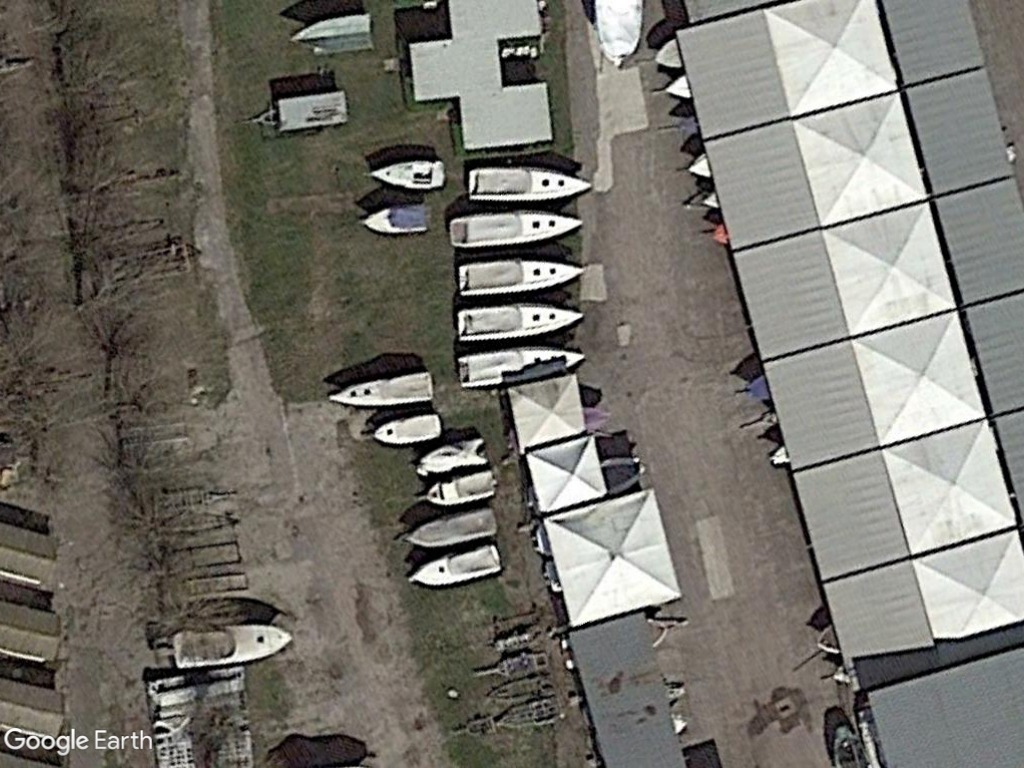boat: (167, 616, 297, 674), (449, 299, 587, 344), (444, 208, 586, 251), (451, 257, 587, 299), (452, 349, 589, 390), (463, 164, 596, 206), (405, 541, 502, 590), (398, 507, 502, 552), (325, 367, 434, 409), (360, 153, 449, 194), (411, 433, 486, 478), (421, 465, 496, 509), (354, 198, 432, 236), (371, 409, 443, 448)
